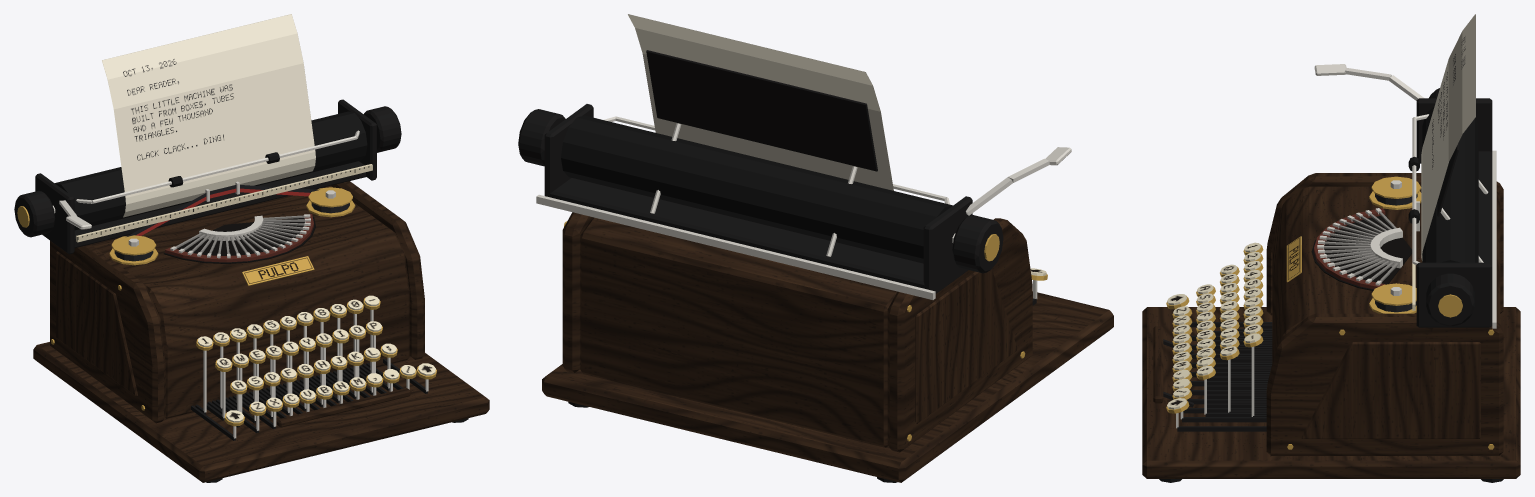
File: typewriter.glb
3 renders of one model, left to right at view 1: azimuth 30°, elevation 25°; view 2: azimuth 150°, elevation 25°; view 3: azimuth 270°, elevation 25°, orthographic. The views are drawn at different scales.
Visible parts, largest first — view 1: Body, Paper, Base, Carriage, Side Panels, Key Levers, Keys, Platen, Key Rings, Type Basket, Platen Knobs, Ribbon Spools (+5 smaller); view 2: Body, Platen, Base, Carriage, Paper Table, Paper, Side Panels, Platen Knobs, Return Lever; view 3: Body, Base, Side Panels, Carriage, Key Levers, Paper, Keys, Platen, Type Basket, Typebars, Key Rings, Ribbon Spools (+6 smaller).
Part boxes in pixels (x1,y1,x2,y2): Body: [50, 181, 424, 423]; Paper: [102, 14, 315, 217]; Base: [33, 342, 489, 482]; Carriage: [35, 99, 376, 254]; Side Panels: [51, 251, 144, 410]; Key Levers: [191, 309, 428, 440]; Keys: [197, 295, 435, 422]; Platen: [54, 111, 367, 230]; Key Rings: [196, 298, 436, 426]; Type Basket: [163, 214, 315, 263]; Platen Knobs: [14, 106, 401, 237]; Ribbon Spools: [109, 187, 355, 265]; Body: [562, 212, 1032, 452]; Platen: [561, 115, 952, 263]; Base: [542, 291, 1113, 482]; Carriage: [536, 104, 972, 299]; Paper Table: [646, 50, 877, 256]; Paper: [628, 14, 893, 190]; Side Panels: [564, 221, 1025, 441]; Platen Knobs: [518, 109, 1003, 273]; Return Lever: [966, 147, 1071, 215]; Body: [1266, 173, 1503, 455]; Base: [1142, 307, 1520, 482]; Side Panels: [1287, 329, 1494, 449]; Carriage: [1412, 98, 1496, 328]; Key Levers: [1176, 322, 1272, 431]; Paper: [1421, 14, 1475, 260]; Keys: [1167, 242, 1260, 409]; Platen: [1422, 106, 1478, 262]; Type Basket: [1311, 208, 1412, 290]; Typebars: [1317, 208, 1398, 285]; Key Rings: [1166, 244, 1263, 413]; Ribbon Spools: [1369, 176, 1421, 313].
Size of the model in its own units: 0.4263 by 0.3374 by 0.335.
Materials: 1 (1 with a texture image).
